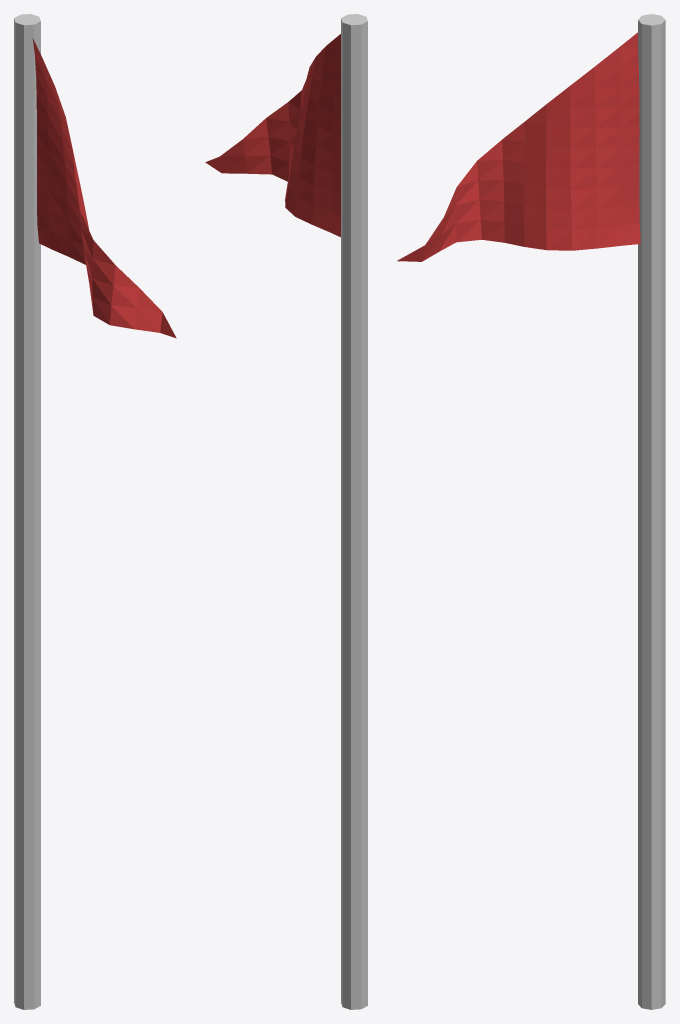
File: Flag.fbx
The picture shows the model from 3 angles, left to right: view 1: azimuth 30°, elevation 25°; view 2: azimuth 210°, elevation 25°; view 3: azimuth 270°, elevation 25°; orthographic projection.
Parts seen in each view (by area): view 1: Cylinder_001_6_0, Plane; view 2: Cylinder_001_6_0, Plane; view 3: Cylinder_001_6_0, Plane.
Boxes of the visible parts, <box> form: Cylinder_001_6_0: <box>14,14,40,1009</box>; Plane: <box>32,38,176,338</box>; Cylinder_001_6_0: <box>341,14,367,1009</box>; Plane: <box>205,34,340,237</box>; Cylinder_001_6_0: <box>638,14,665,1009</box>; Plane: <box>397,32,640,261</box>.
Size of the model in its own units: 35.89 by 765 by 189.
